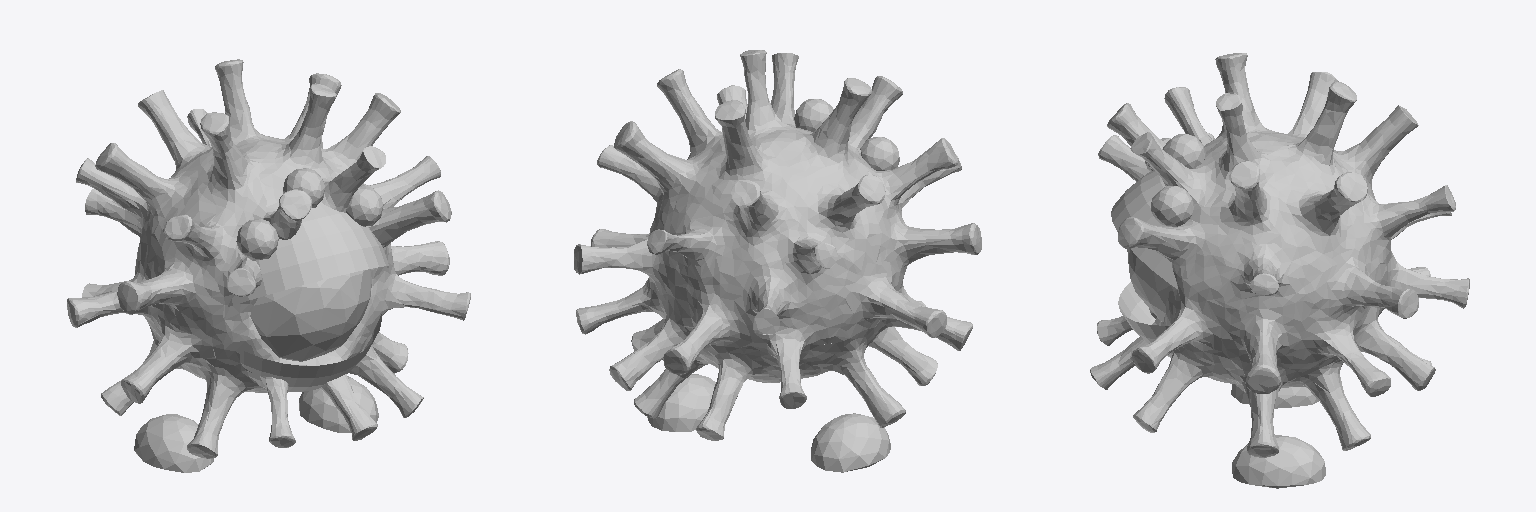
File: Virus_NEU_LOW_POLY_2.obj
The picture shows the model from 3 angles: view 1: azimuth 30°, elevation 25°; view 2: azimuth 150°, elevation 25°; view 3: azimuth 270°, elevation 25°; orthographic projection.
Visible parts, largest first — view 1: Icosphere_Icosphere.003, Cornea_Sphere.007, Sphere.001, feet_Sphere.003, Sphere, Cornea.004_Sphere.018, Cornea.001_Sphere.016, Cornea.003_Sphere.014; view 2: Icosphere_Icosphere.003, feet_Sphere.003, Cornea.004_Sphere.018, Cornea.003_Sphere.014; view 3: Icosphere_Icosphere.003, feet_Sphere.003, Sphere.001, Cornea_Sphere.007, Cornea.001_Sphere.016, Sphere, Cornea.003_Sphere.014.
Boxes of the visible parts, x1,y1,x2,y2 form: Icosphere_Icosphere.003: [67, 59, 470, 458]; Cornea_Sphere.007: [251, 269, 371, 361]; Sphere.001: [228, 202, 388, 306]; feet_Sphere.003: [134, 376, 378, 472]; Sphere: [238, 314, 381, 391]; Cornea.004_Sphere.018: [236, 219, 278, 260]; Cornea.001_Sphere.016: [346, 186, 383, 226]; Cornea.003_Sphere.014: [283, 168, 324, 207]; Icosphere_Icosphere.003: [574, 50, 981, 440]; feet_Sphere.003: [647, 374, 890, 472]; Cornea.004_Sphere.018: [860, 137, 899, 170]; Cornea.003_Sphere.014: [794, 99, 833, 131]; Icosphere_Icosphere.003: [1090, 53, 1469, 457]; feet_Sphere.003: [1231, 384, 1325, 488]; Sphere.001: [1111, 171, 1177, 288]; Cornea_Sphere.007: [1127, 249, 1169, 321]; Cornea.001_Sphere.016: [1151, 186, 1193, 226]; Sphere: [1118, 282, 1172, 357]; Cornea.003_Sphere.014: [1163, 134, 1205, 168].
Size of the model in its own units: 2.15 by 2.04 by 1.97.